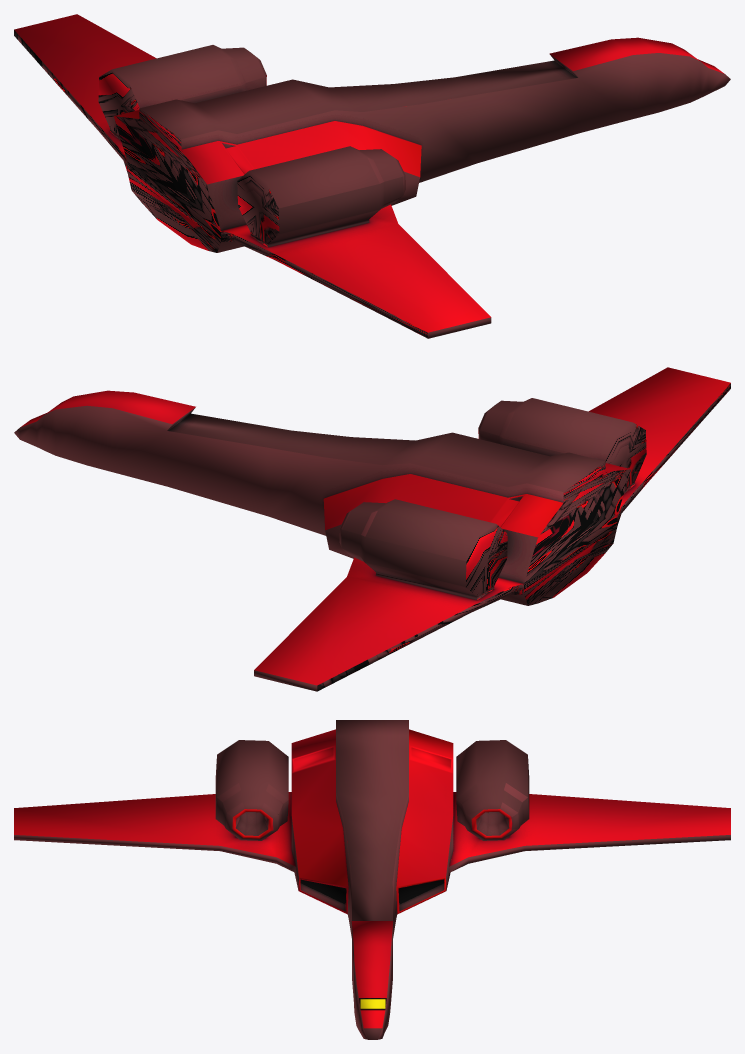
3 renders of one model, top to bottom at view 1: azimuth 30°, elevation 25°; view 2: azimuth 150°, elevation 25°; view 3: azimuth 270°, elevation 25°, orthographic. The views are drawn at different scales.
Visible parts, largest first — view 1: Sam; view 2: Sam; view 3: Sam.
Part boxes in pixels (<box>): Sam: <box>14,14,730,338</box>; Sam: <box>14,367,730,691</box>; Sam: <box>14,720,730,1039</box>.
Size of the model in its own units: 88.71 by 16.71 by 112.
1 material, 1 textured.
